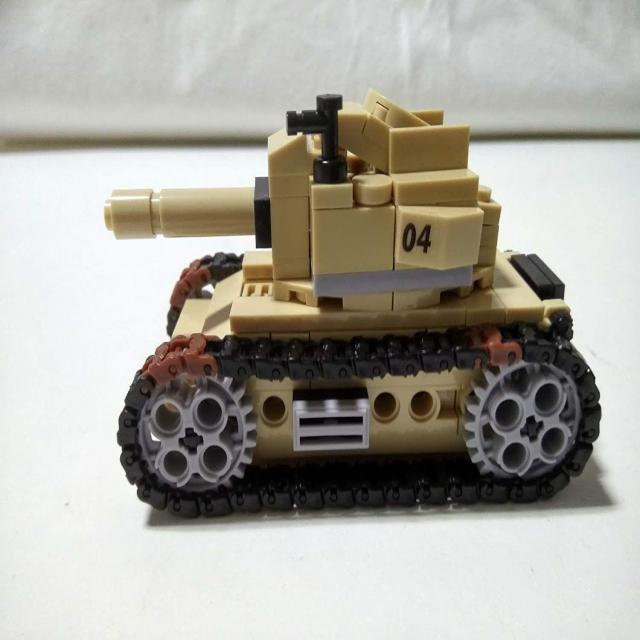Tanks: (72, 51, 609, 522)
